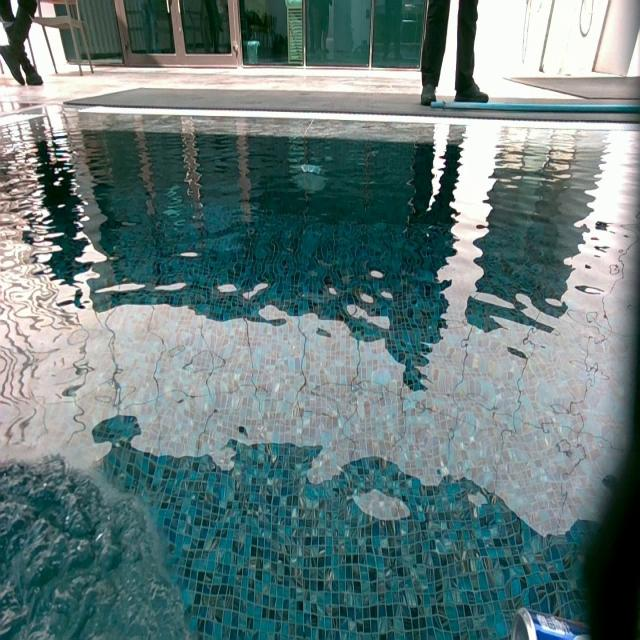Cans: (511, 607, 595, 640)
